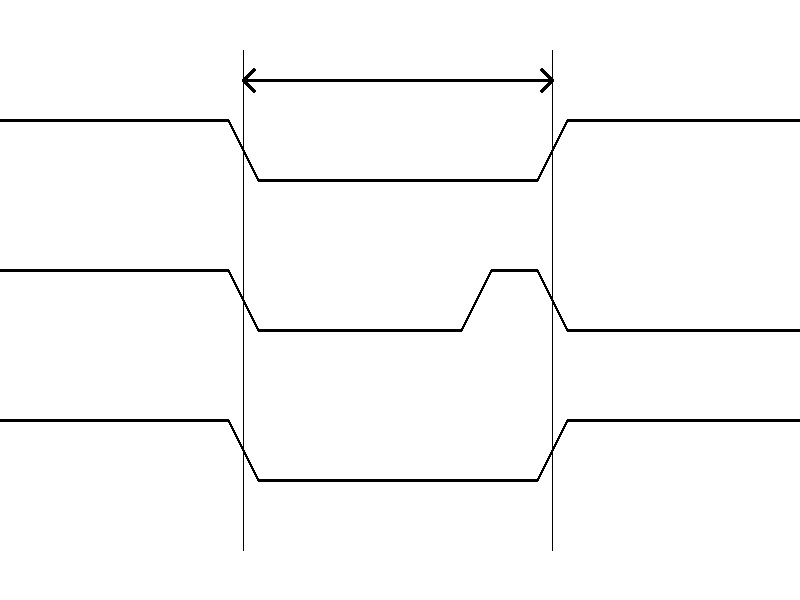double_arrow: (243, 65, 552, 95)
